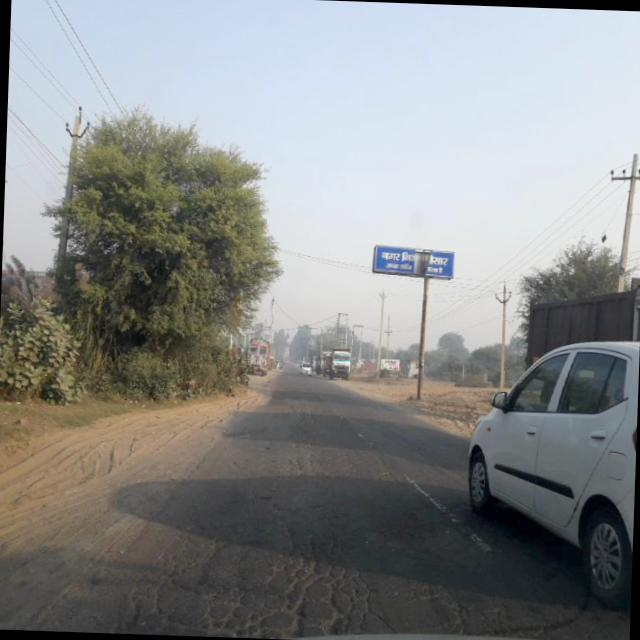crack: (102, 485, 492, 640)
